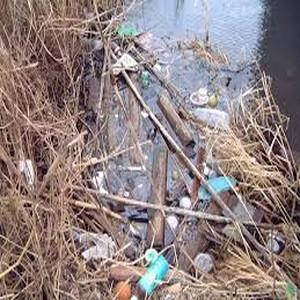Plastic: (189, 107, 228, 127)
